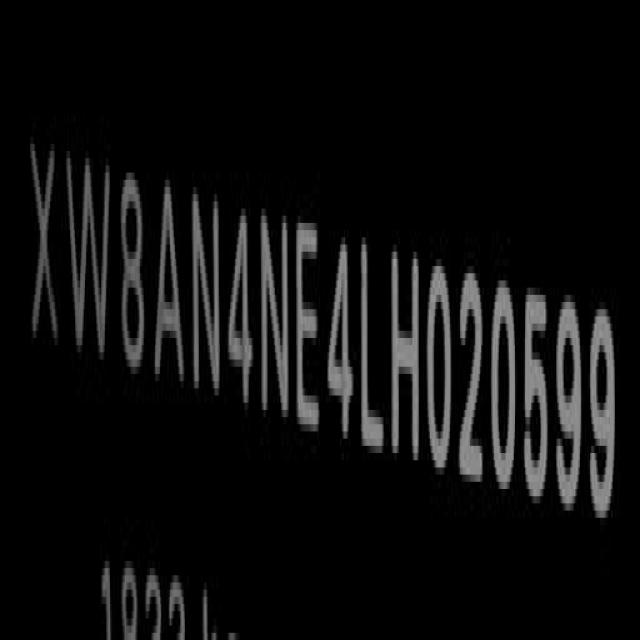0: (492, 270, 519, 497), (427, 253, 453, 484)
2: (457, 264, 483, 496)
4: (327, 228, 353, 461), (228, 193, 253, 420)
5: (523, 280, 551, 505)
8: (122, 166, 146, 384)
9: (591, 309, 619, 526), (554, 294, 581, 518)
A: (153, 172, 182, 399)
E: (295, 213, 319, 440)
H: (392, 240, 421, 475)
L: (361, 237, 386, 468)
N: (257, 198, 293, 435), (192, 180, 223, 411)
W: (66, 147, 115, 371)
X: (31, 133, 62, 362)
